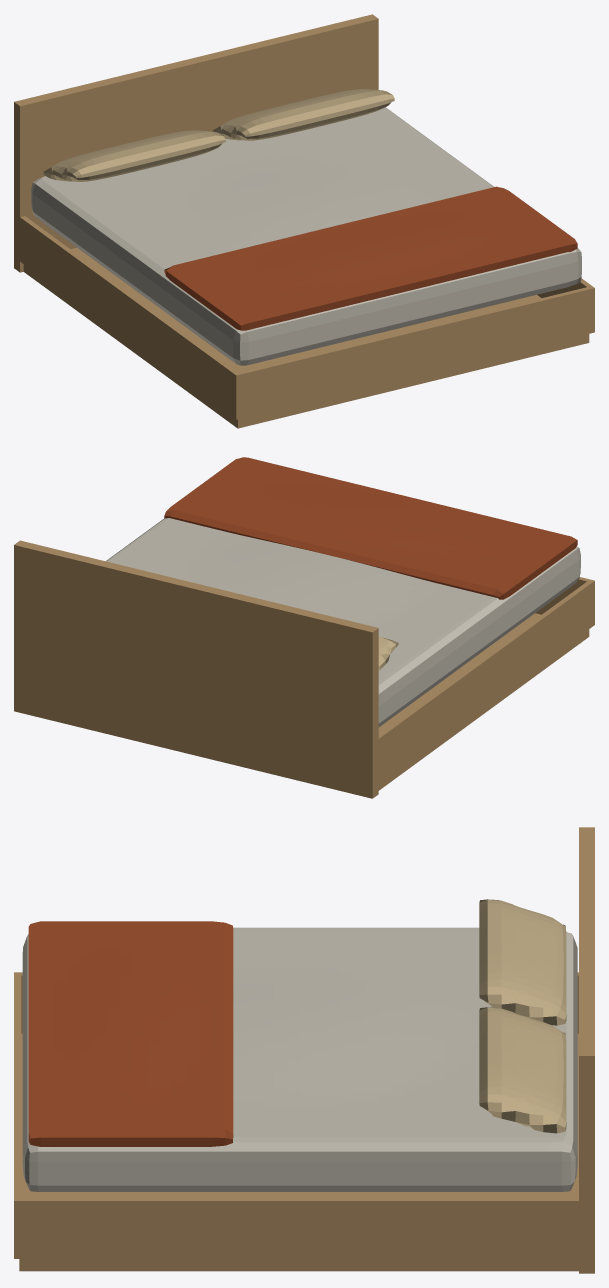
The model's file is SAB-PLT-king.glb.
3 views of the same model, one above another, from view 1: azimuth 30°, elevation 25°; view 2: azimuth 150°, elevation 25°; view 3: azimuth 270°, elevation 25° (orthographic). The views are drawn at different scales.
Visible parts, largest first — view 1: mattress:pbr, throw:pbr, head:pbr, foot:pbr, rail-l:pbr, plinth:pbr, pillow-l:pbr, pillow-r:pbr; view 2: head:pbr, mattress:pbr, throw:pbr, rail-l:pbr, plinth:pbr; view 3: mattress:pbr, throw:pbr, rail-r:pbr, plinth:pbr, pillow-r:pbr, pillow-l:pbr, head:pbr, foot:pbr.
Boxes of the visible parts, x1=… form: mattress:pbr: x1=31, y1=107, x2=581, y2=365; throw:pbr: x1=164, y1=186, x2=577, y2=330; head:pbr: x1=14, y1=14, x2=378, y2=272; foot:pbr: x1=238, y1=287, x2=589, y2=418; rail-l:pbr: x1=20, y1=216, x2=241, y2=419; plinth:pbr: x1=23, y1=248, x2=589, y2=428; pillow-l:pbr: x1=43, y1=130, x2=225, y2=181; pillow-r:pbr: x1=212, y1=89, x2=394, y2=140; head:pbr: x1=14, y1=540, x2=378, y2=798; mattress:pbr: x1=106, y1=518, x2=580, y2=727; throw:pbr: x1=164, y1=457, x2=577, y2=599; rail-l:pbr: x1=378, y1=579, x2=594, y2=782; plinth:pbr: x1=378, y1=613, x2=589, y2=790; mattress:pbr: x1=22, y1=927, x2=577, y2=1191; throw:pbr: x1=28, y1=921, x2=233, y2=1146; rail-r:pbr: x1=14, y1=1198, x2=578, y2=1258; plinth:pbr: x1=19, y1=1033, x2=578, y2=1271; pillow-r:pbr: x1=479, y1=1007, x2=566, y2=1133; pillow-l:pbr: x1=479, y1=899, x2=566, y2=1025; head:pbr: x1=579, y1=827, x2=594, y2=1273; foot:pbr: x1=14, y1=975, x2=21, y2=1197.
Size of the model in its own units: 2.03 by 0.9 by 2.18.
